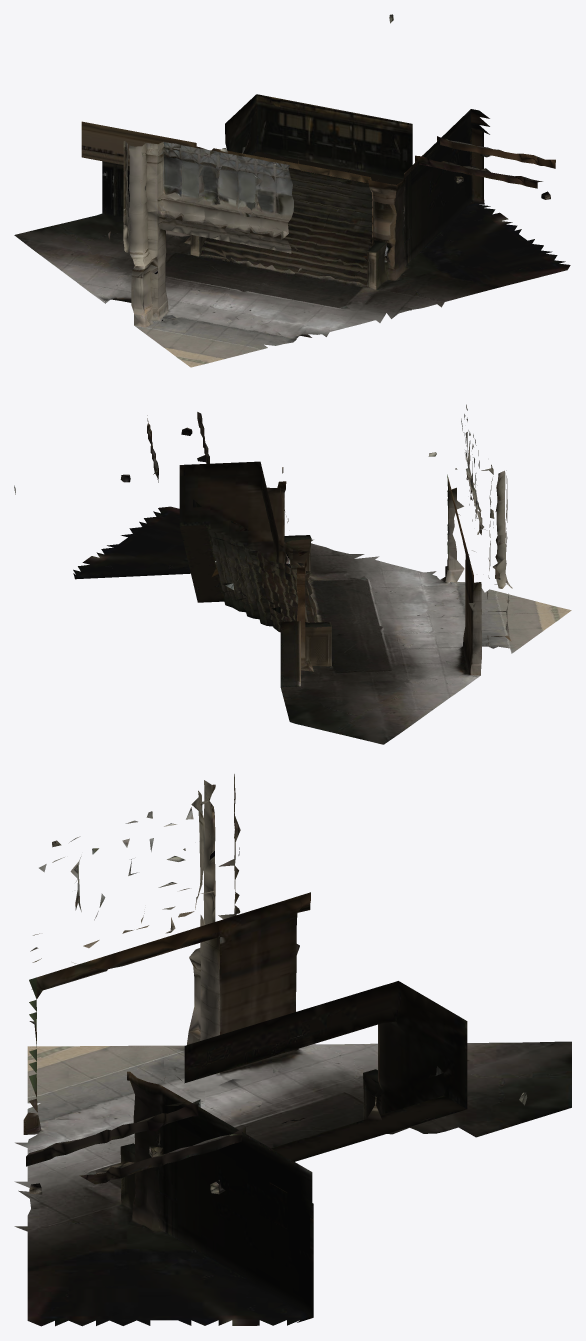
3 renders of one model, top to bottom at view 1: azimuth 30°, elevation 25°; view 2: azimuth 150°, elevation 25°; view 3: azimuth 270°, elevation 25°, orthographic. The views are drawn at different scales.
Bounding box in the file's own units: 19.77 × 8.71 × 16.14.
Materials: 1 (1 with a texture image).
